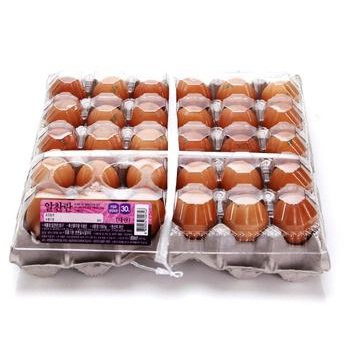egg: (25, 73, 319, 244)
